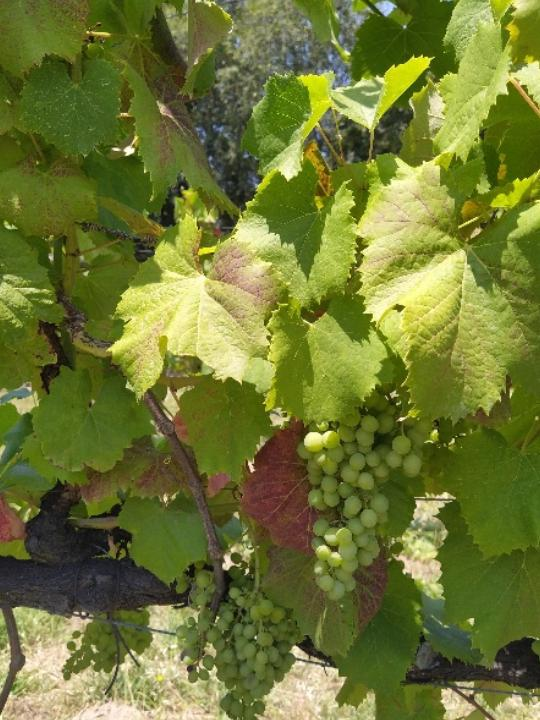grape: (298, 383, 424, 606), (170, 541, 302, 720), (56, 609, 151, 694)
